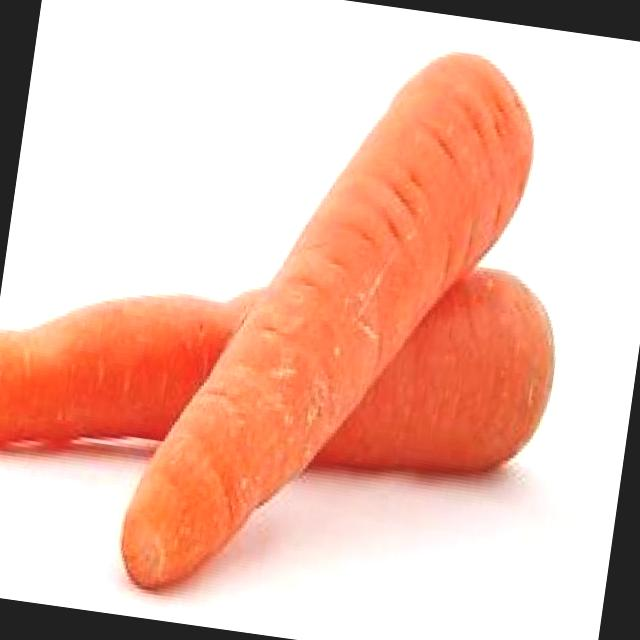carrot: (114, 19, 546, 638), (0, 201, 566, 527)
